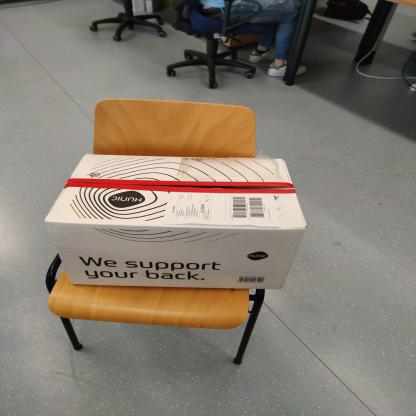box: (32, 121, 339, 303)
